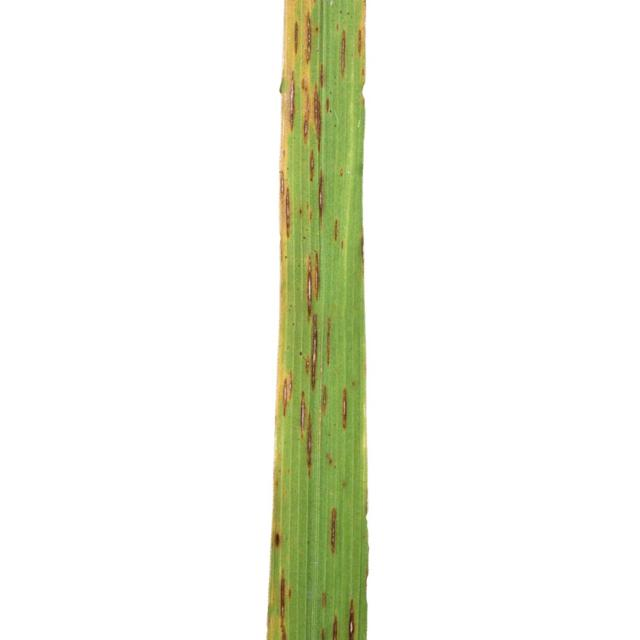Narrow brown: (208, 0, 433, 640)
